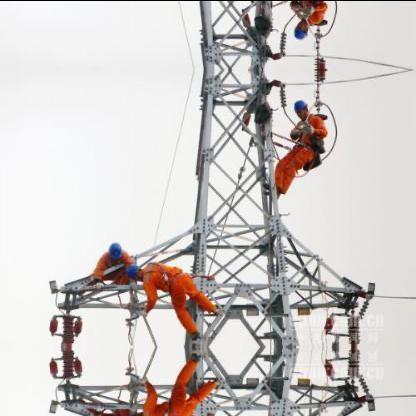Helmet: (123, 262, 147, 280), (290, 94, 308, 116), (290, 20, 308, 42), (105, 240, 124, 260), (122, 409, 148, 413)
